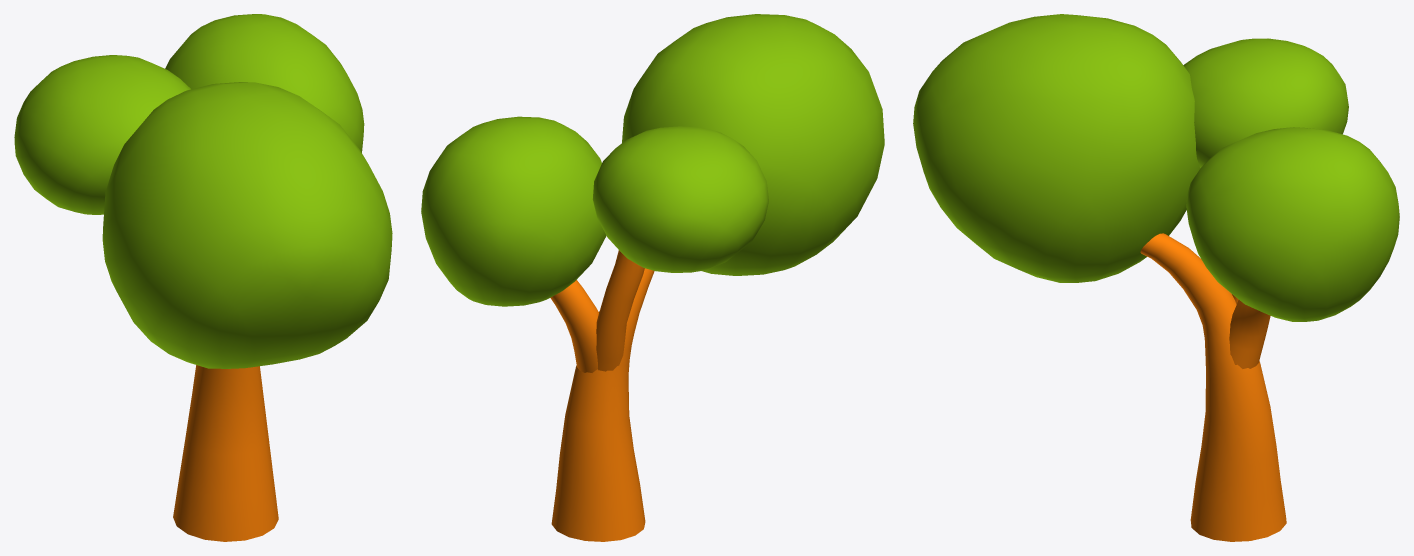
File: Tree1.fbx
The picture shows the model from 3 angles, left to right: view 1: azimuth 30°, elevation 25°; view 2: azimuth 150°, elevation 25°; view 3: azimuth 270°, elevation 25°; orthographic projection. The views are drawn at different scales.
Visible parts, largest first — view 1: daun.002; view 2: daun.002; view 3: daun.002.
Boxes of the visible parts, x1,y1,x2,y2 form: daun.002: [14, 14, 392, 541]; daun.002: [421, 14, 884, 541]; daun.002: [913, 14, 1399, 541].
Bounding box in the file's own units: 689 × 957 × 909.
